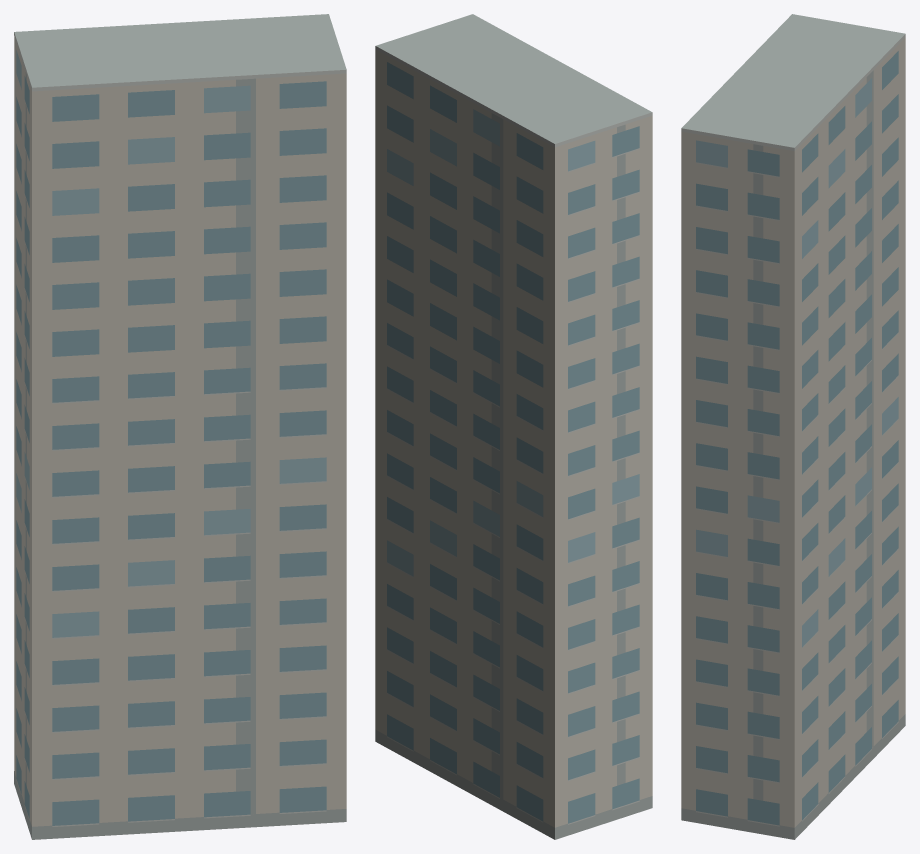
The model's file is residential-11078453-0cbb-4e40-8592-49abe98cd4af.glb.
3 views of the same model, side by side, from view 1: azimuth 30°, elevation 25°; view 2: azimuth 150°, elevation 25°; view 3: azimuth 270°, elevation 25° (orthographic). The views are drawn at different scales.
Parts seen in each view (by area): view 1: residential-11078453-0cbb-4e40-8592-49abe98cd4af.tmp; view 2: residential-11078453-0cbb-4e40-8592-49abe98cd4af.tmp; view 3: residential-11078453-0cbb-4e40-8592-49abe98cd4af.tmp.
Part boxes in pixels (box(x1,y1,x2,y2)): residential-11078453-0cbb-4e40-8592-49abe98cd4af.tmp: box(14, 14, 346, 839); residential-11078453-0cbb-4e40-8592-49abe98cd4af.tmp: box(375, 14, 652, 839); residential-11078453-0cbb-4e40-8592-49abe98cd4af.tmp: box(681, 14, 905, 839).
Bounding box in the file's own units: 20.33 × 49 × 14.4.
